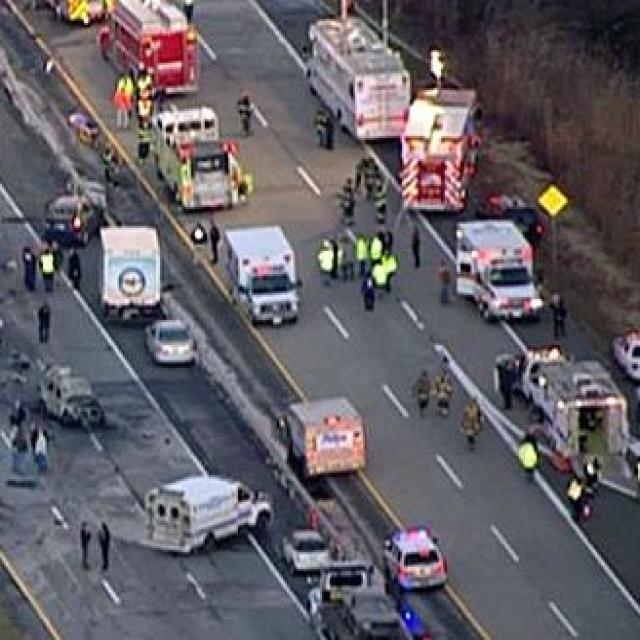traffic_incident: (0, 152, 109, 261), (18, 330, 102, 452)
